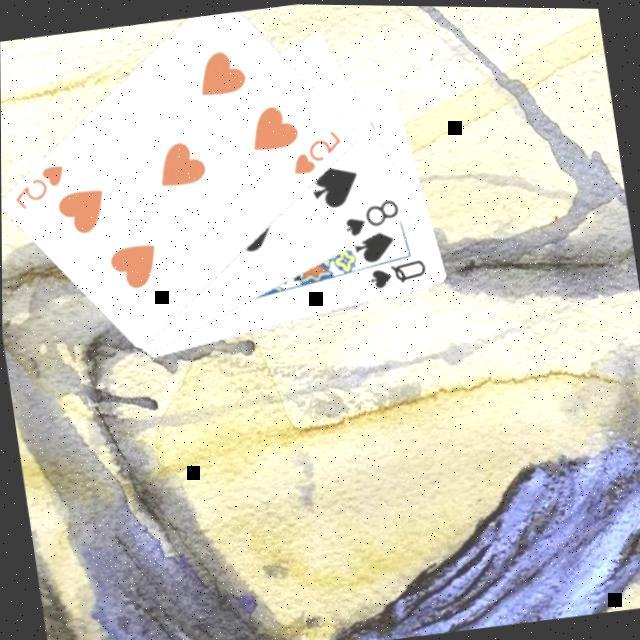5H: (5, 158, 71, 214), (284, 122, 348, 179)
8S: (336, 193, 404, 240)
QS: (362, 253, 430, 292)
